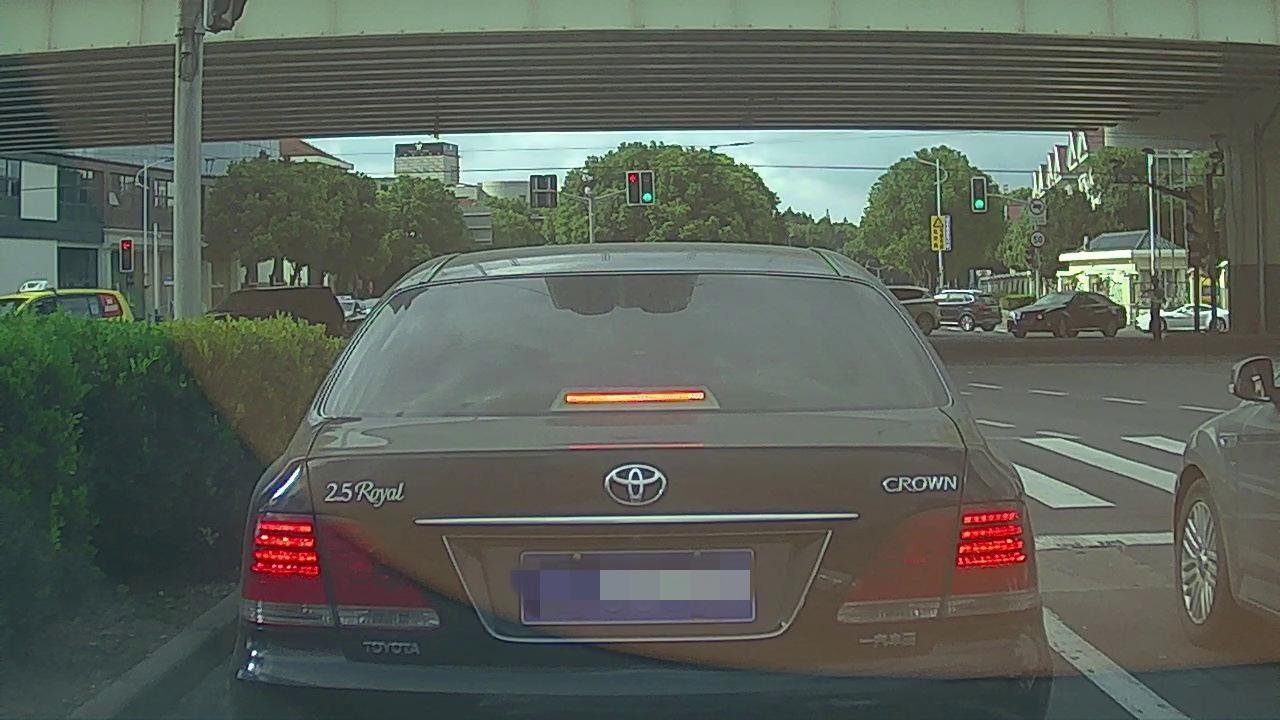traffic_light: (971, 177, 987, 211), (118, 235, 132, 272), (639, 172, 654, 203), (626, 172, 640, 205)
